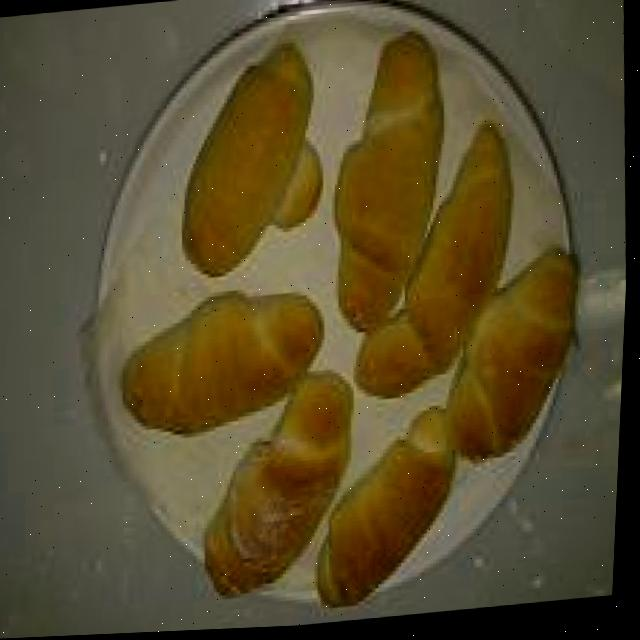面包点心: (106, 27, 610, 622)
